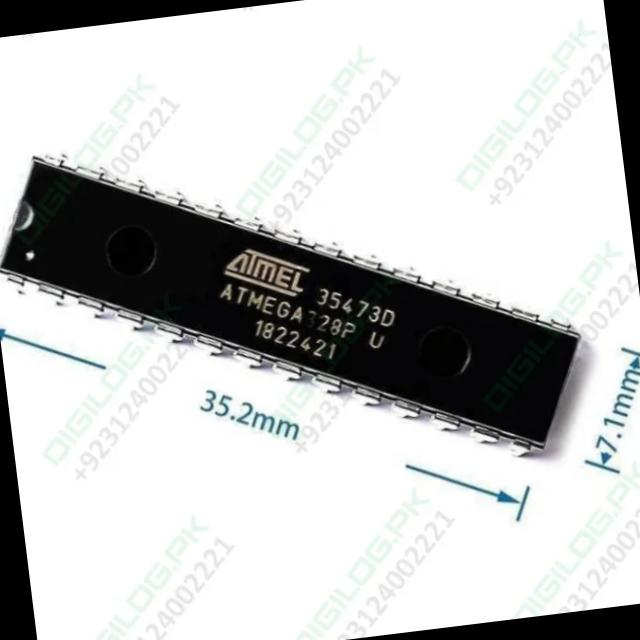atmega: (0, 86, 600, 522)
